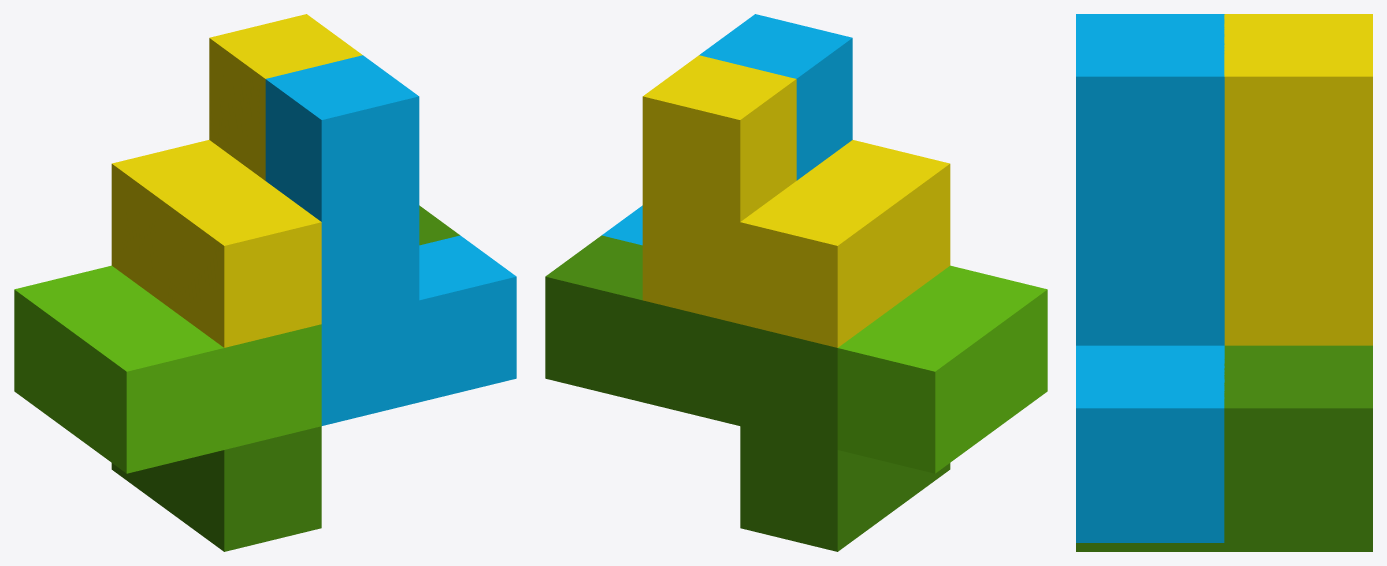
3 views of the same model, side by side, from view 1: azimuth 30°, elevation 25°; view 2: azimuth 150°, elevation 25°; view 3: azimuth 270°, elevation 25° (orthographic). The views are drawn at different scales.
Parts seen in each view (by area): view 1: mergedBlocks(Clone); view 2: mergedBlocks(Clone); view 3: mergedBlocks(Clone).
Boxes of the visible parts, x1,y1,x2,y2 form: mergedBlocks(Clone): [14, 14, 516, 551]; mergedBlocks(Clone): [545, 14, 1047, 551]; mergedBlocks(Clone): [1076, 14, 1372, 551].
Bounding box in the file's own units: 4 × 4 × 2.
Materials: 4 (4 with a texture image).
